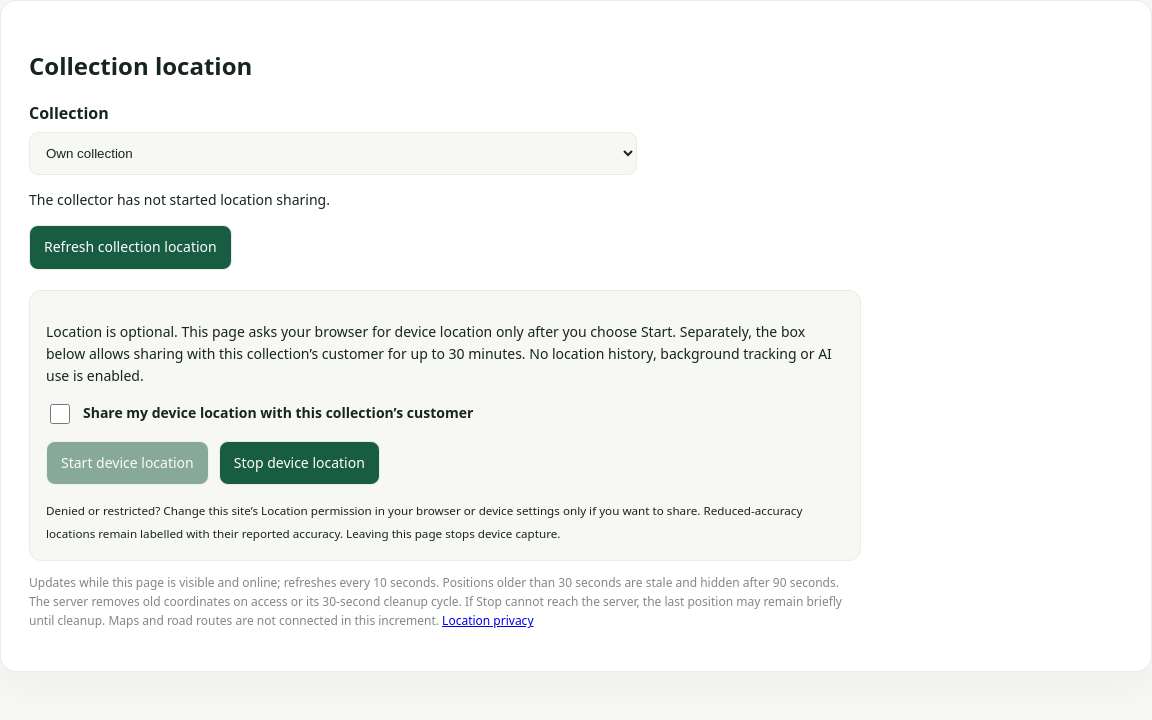
Test: collection location permission UI › does not request device access on opening and requires separate sharing consent
Expected: the button "Start device location" is disabled, [46,441,209,485]
Click the checkbox. click: (60,414)
box: [50,404,70,424]
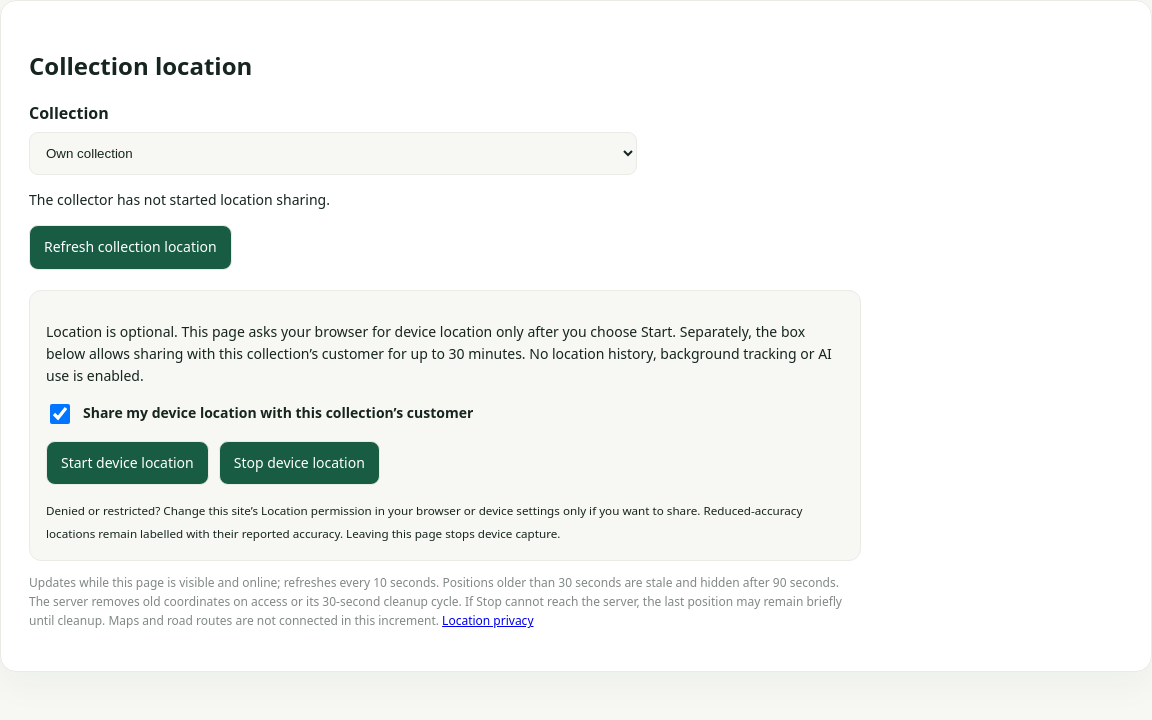
Click the button "Start device location". click: (127,463)
box: [46,441,209,485]
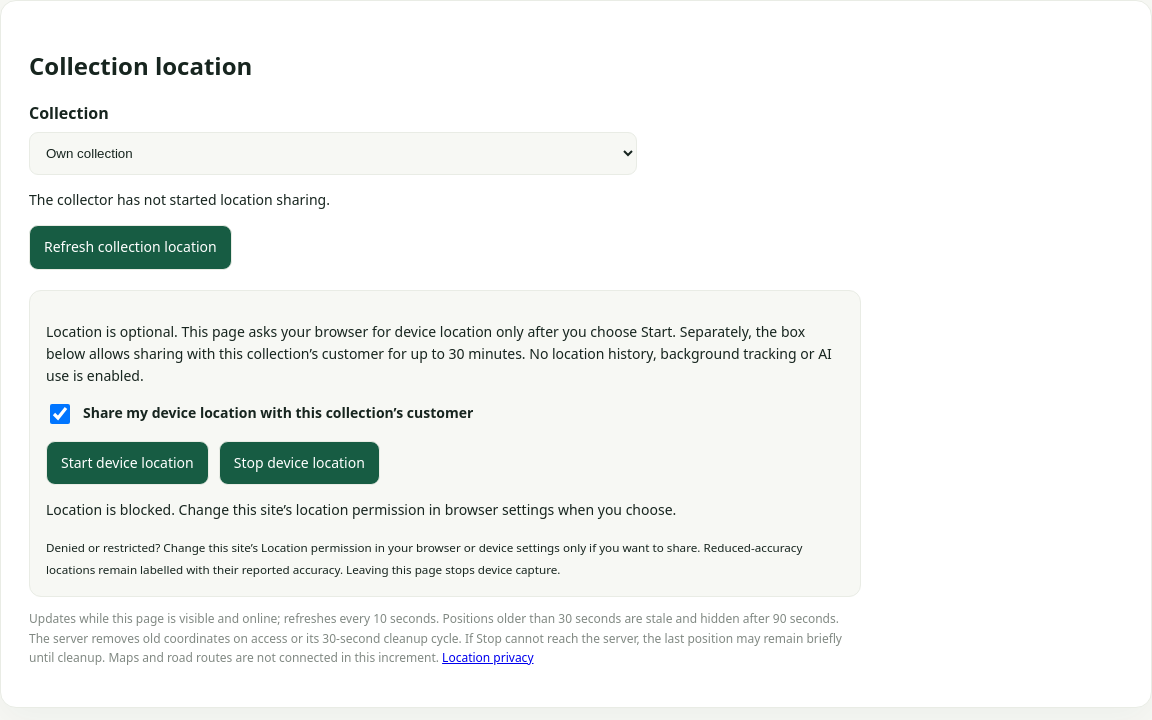
Expected: the text "Location is blocked" is shown, [46,500,676,519]
